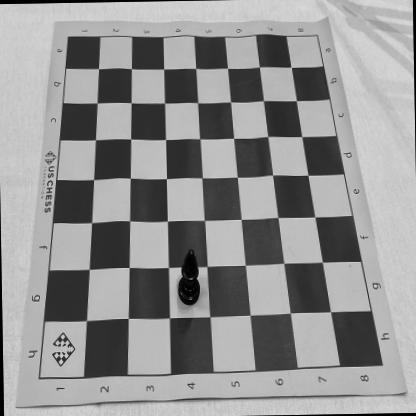bishop: (176, 250, 200, 306)
